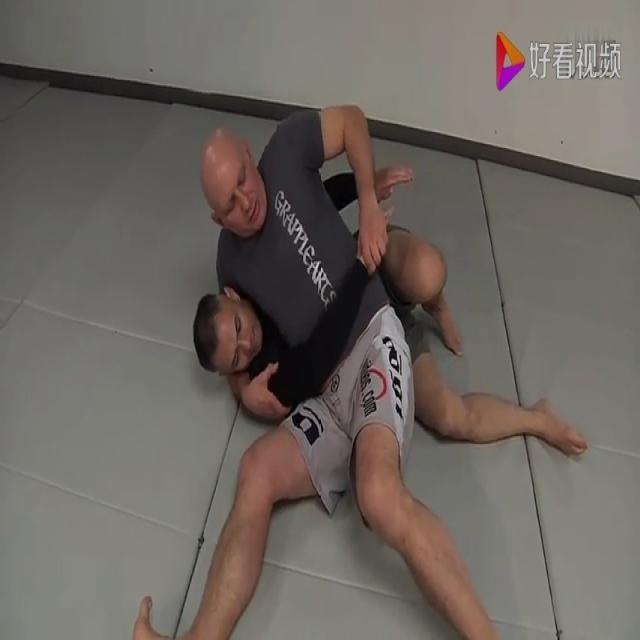fight: (169, 80, 588, 639)
